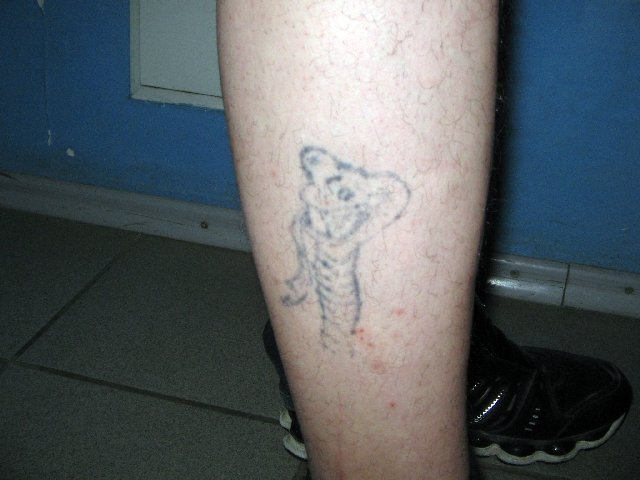tatu7_zmeya: (280, 139, 414, 357)
